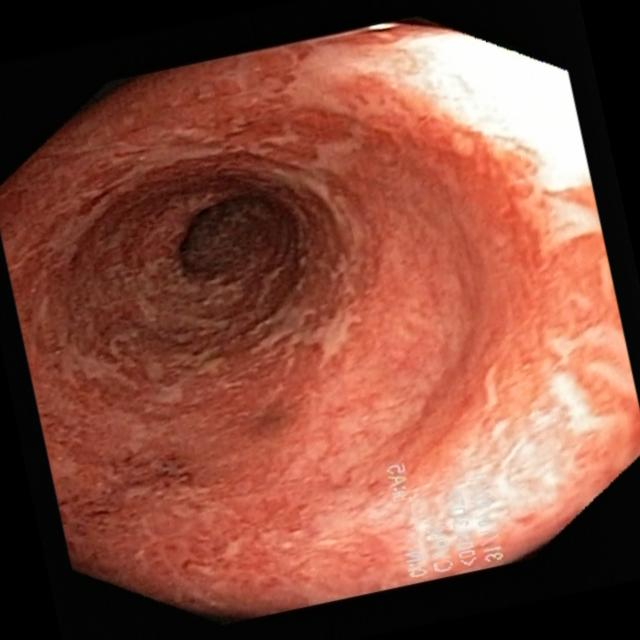ulcerative-colities: (0, 43, 414, 441), (65, 438, 349, 624)
